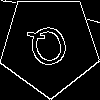Q: (24, 20, 75, 79)
